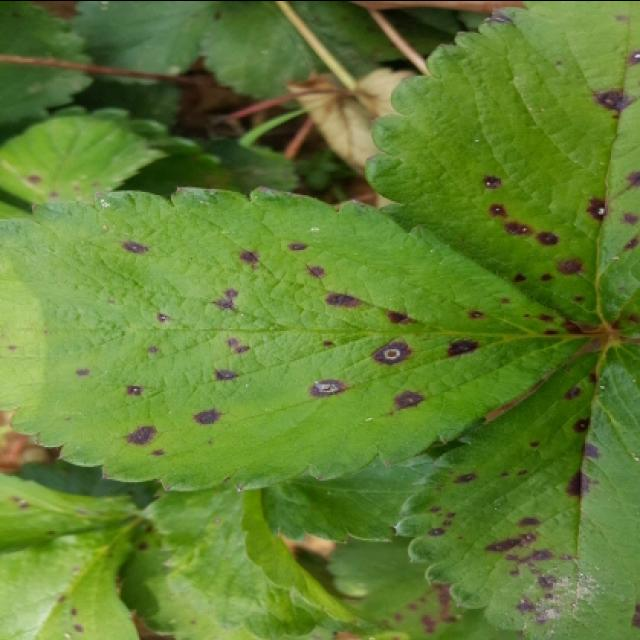Leaf Spot: (0, 184, 594, 494), (365, 0, 638, 338), (394, 338, 638, 638), (0, 480, 147, 638), (120, 516, 261, 638), (327, 537, 493, 638), (0, 114, 171, 203)
